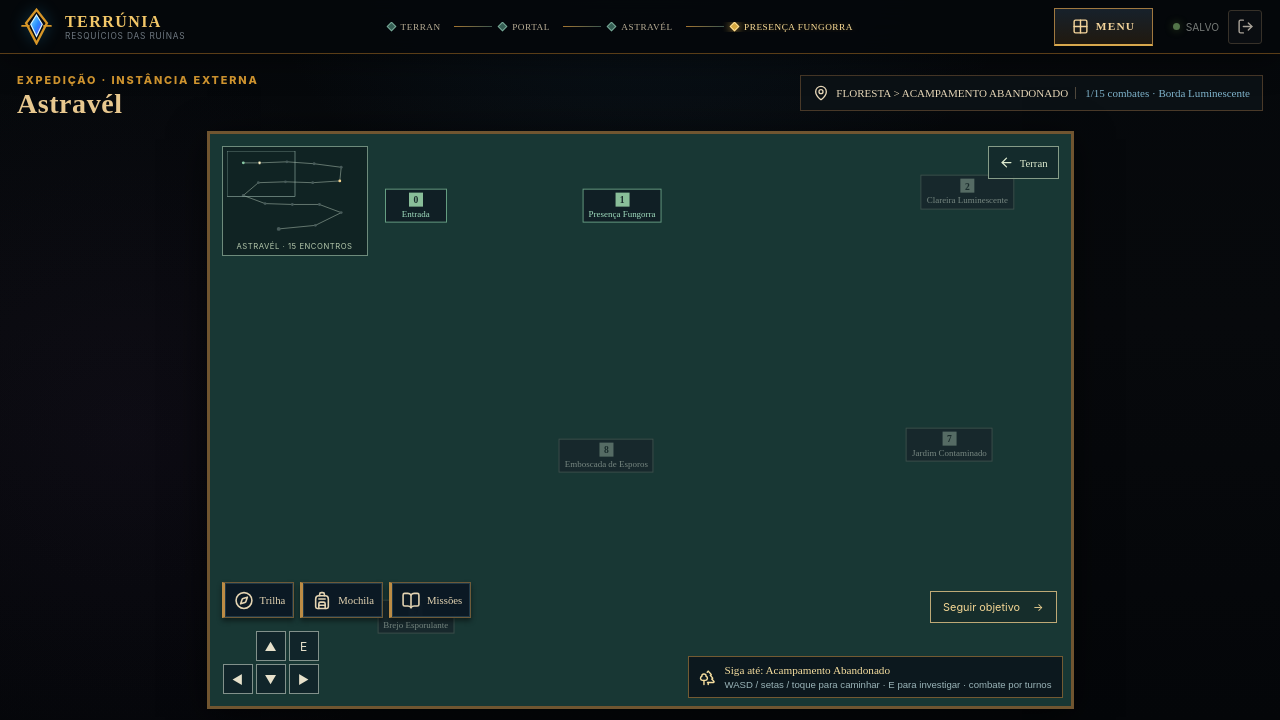
Scenario: expedição pixelada de Astravél › não dispara encontros em marcos já concluídos ou bloqueados
Click the button with aria-label "Aproximar-se de Presença Fungorra".
click(622, 205)  # box [583,188,662,223]
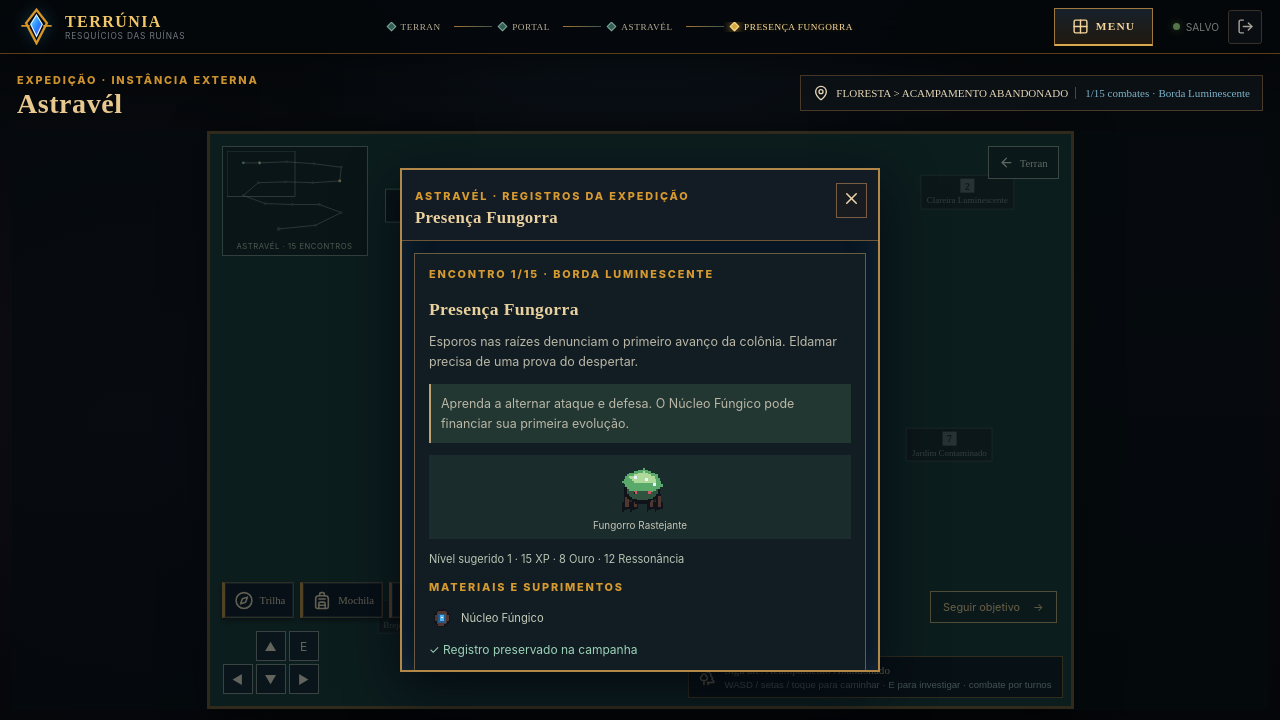
Now the element named "Painel lateral: Presença Fungorra" is shown, box [400,168,880,672]
